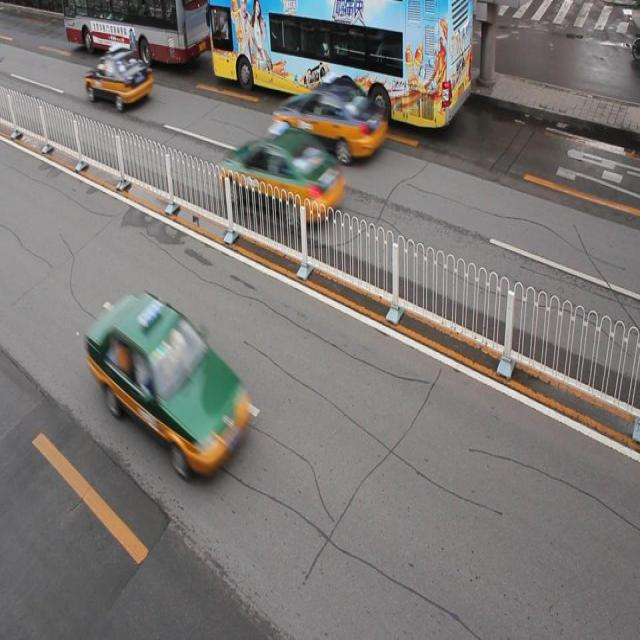car: (85, 289, 245, 473), (218, 125, 342, 226), (274, 76, 386, 165), (84, 44, 153, 108)
van: (209, 1, 474, 127), (63, 1, 210, 64)
